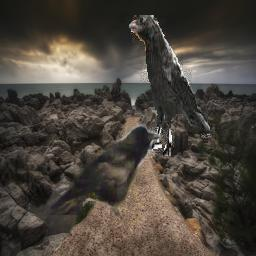Crow: (126, 16, 212, 157), (50, 125, 160, 216)
